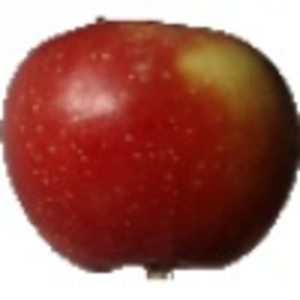maçã braeburn: (1, 17, 300, 275)
